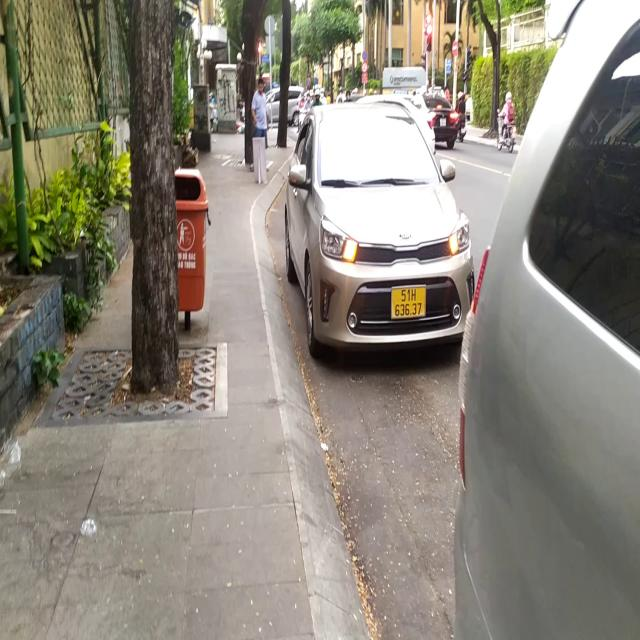bien_vang: (392, 286, 426, 322)
